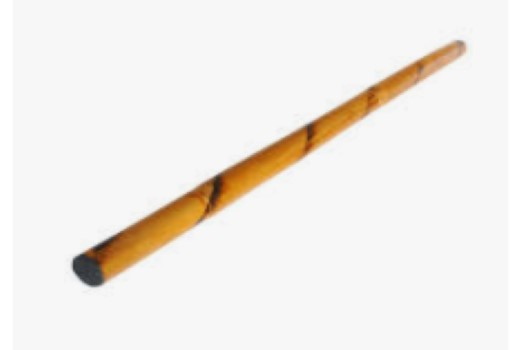baston_e: (108, 38, 451, 289)
baston_v: (64, 250, 118, 293), (449, 29, 473, 55)
